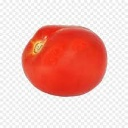tomato: (22, 24, 108, 96)
